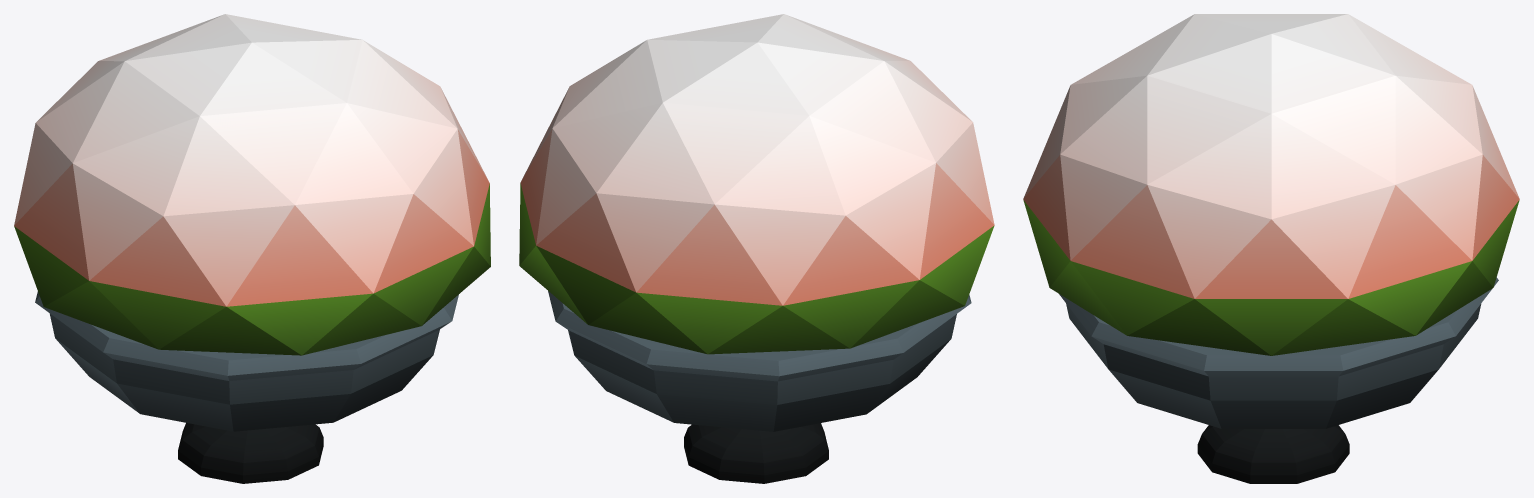
File: RoundVase_White.fbx
3 views of the same model, side by side, from view 1: azimuth 30°, elevation 25°; view 2: azimuth 150°, elevation 25°; view 3: azimuth 270°, elevation 25° (orthographic). The views are drawn at different scales.
Parts seen in each view (by area): view 1: RoundVase_White; view 2: RoundVase_White; view 3: RoundVase_White.
Boxes of the visible parts, left/top/right/bottom form: RoundVase_White: left=14, top=14, right=490, bottom=483; RoundVase_White: left=519, top=14, right=994, bottom=483; RoundVase_White: left=1023, top=14, right=1519, bottom=483.
Bounding box in the file's own units: 315 × 302 × 325.
